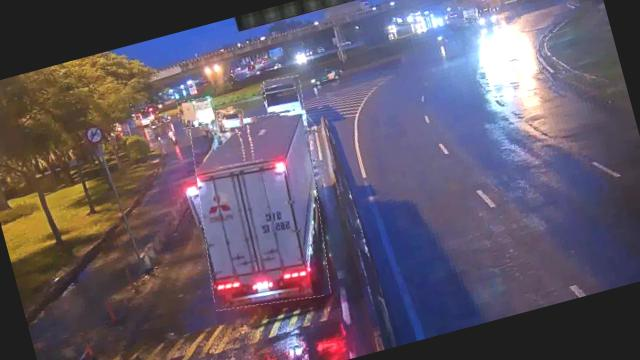Car: (213, 105, 246, 136)
Truck: (174, 102, 346, 320), (260, 74, 310, 132), (175, 93, 218, 130)
